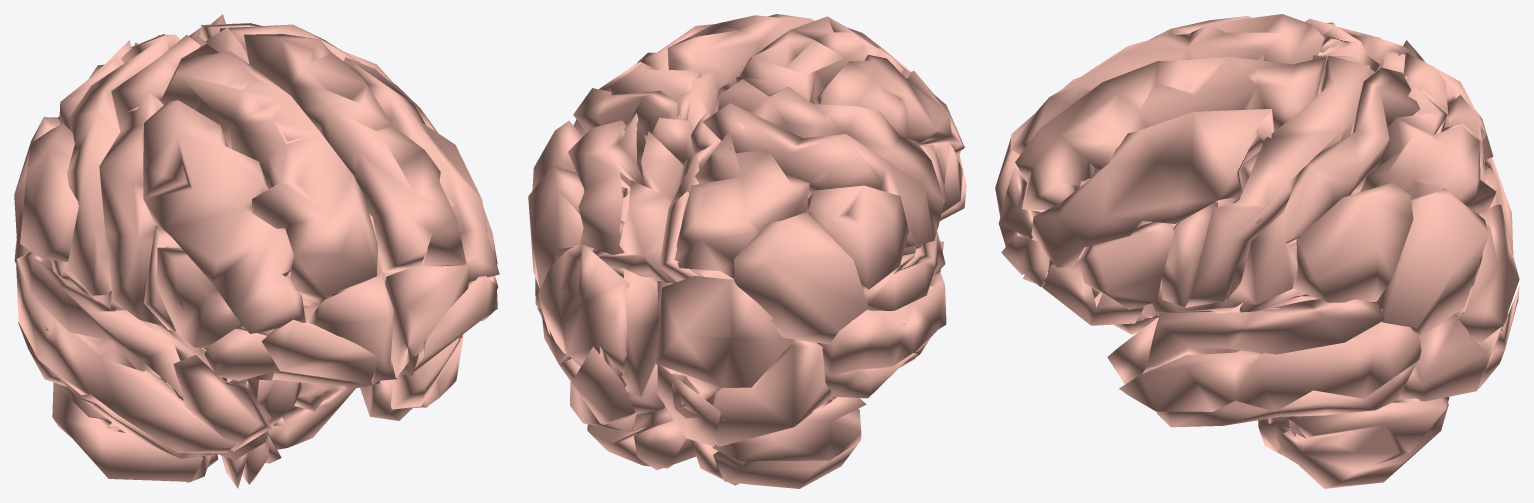
File: brain.glb
3 views of the same model, side by side, from view 1: azimuth 30°, elevation 25°; view 2: azimuth 150°, elevation 25°; view 3: azimuth 270°, elevation 25° (orthographic). The views are drawn at different scales.
Parts seen in each view (by area): view 1: Allen_olfactory_bulb_L; view 2: Allen_olfactory_bulb_L; view 3: Allen_olfactory_bulb_L.
Boxes of the visible parts, bbox=[...] form: Allen_olfactory_bulb_L: bbox=[14, 14, 499, 488]; Allen_olfactory_bulb_L: bbox=[528, 14, 966, 488]; Allen_olfactory_bulb_L: bbox=[995, 14, 1519, 488].
Size of the model in its own units: 0.1336 by 0.1435 by 0.1655.
